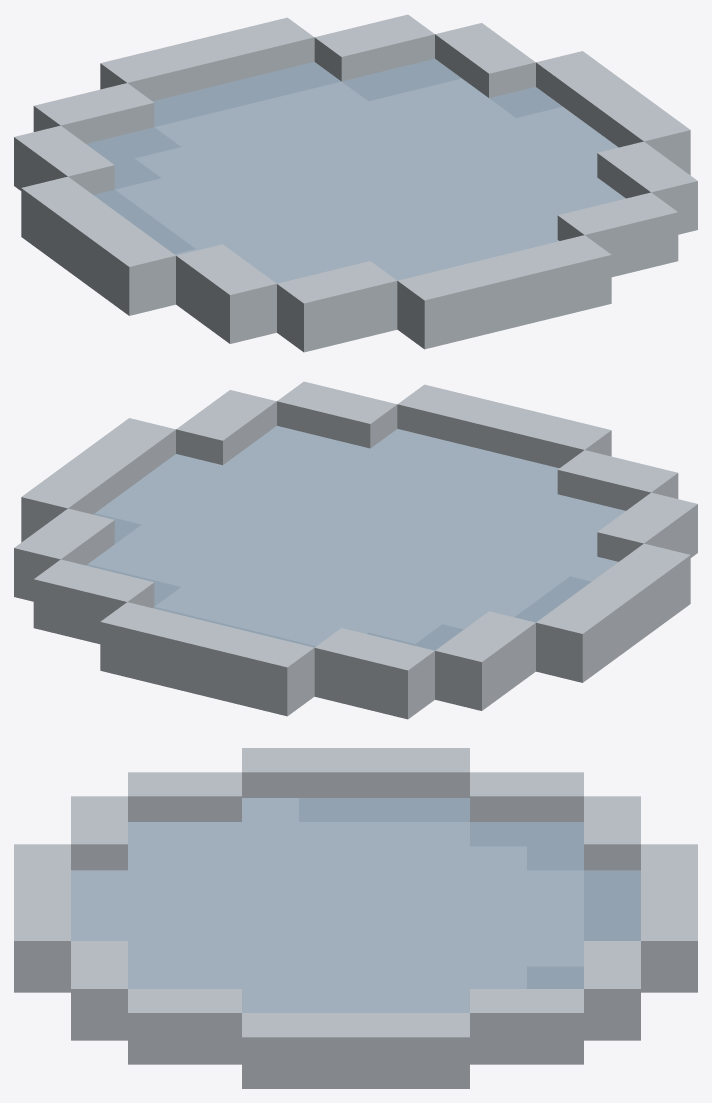
The model's file is CleanPlate.fbx.
3 views of the same model, one above another, from view 1: azimuth 30°, elevation 25°; view 2: azimuth 150°, elevation 25°; view 3: azimuth 270°, elevation 25° (orthographic). The views are drawn at different scales.
Parts seen in each view (by area): view 1: plate; view 2: plate; view 3: plate.
Part boxes in pixels (x1,y1,x2,y2): plate: (14,14,697,352); plate: (14,381,697,719); plate: (14,748,697,1088).
Bounding box in the file's own units: 240 × 20 × 240.
Materials: 1 (1 with a texture image).
